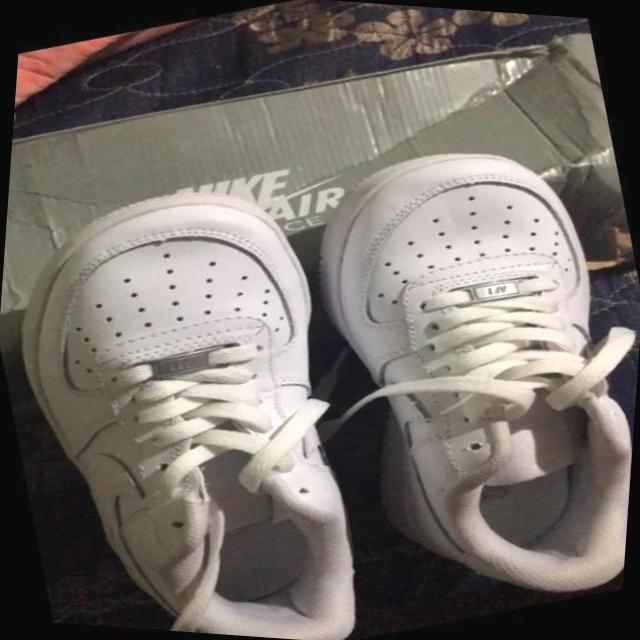nike_fake_airforce: (0, 140, 436, 640), (262, 106, 640, 640)
